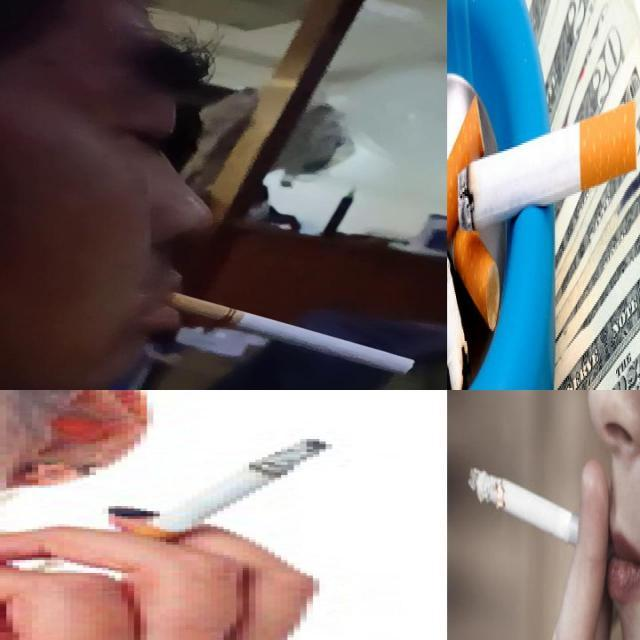cigarette: (453, 94, 639, 333), (100, 437, 336, 561), (166, 294, 420, 378), (467, 466, 614, 560)
